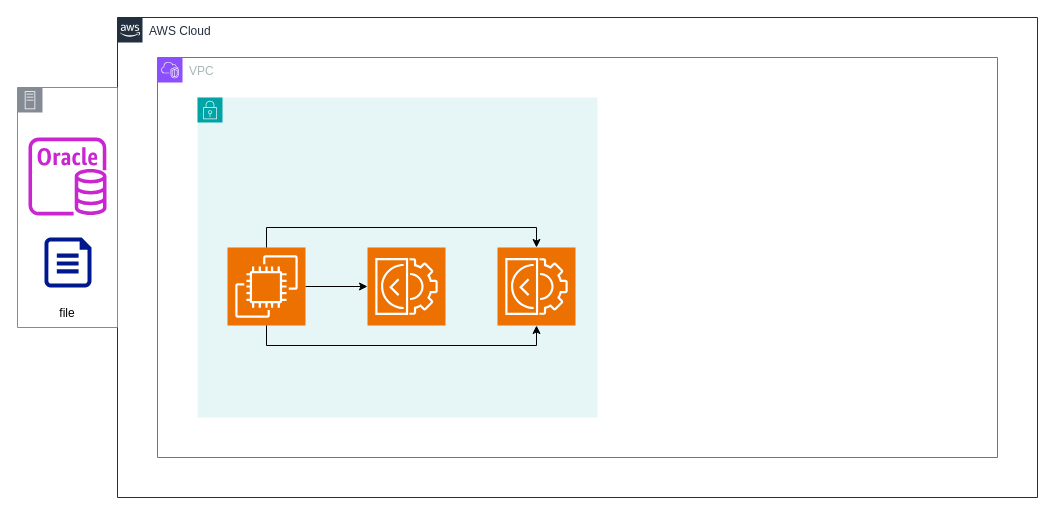
Image size: 1055x515. Some labels were removed from this diagram. Here are the shapes that lost their labels. From the top down, the box of each, then its label:
(16, 86, 118, 328): On-Premise
(196, 96, 598, 418): Private subnet
